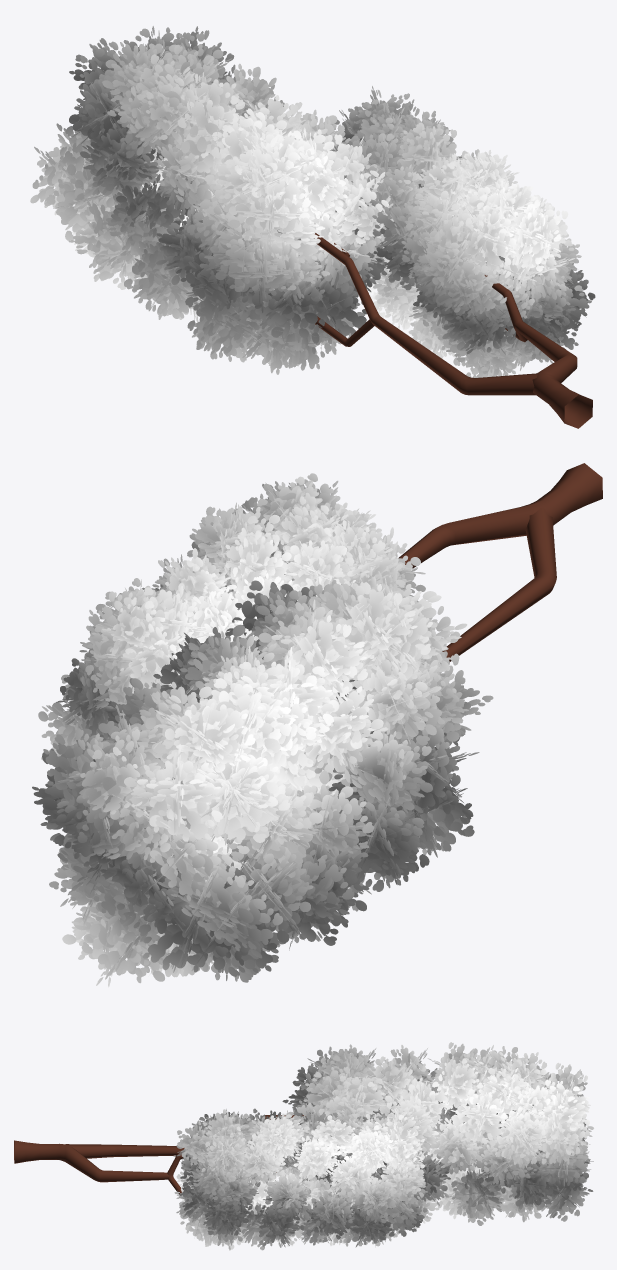
Rendered from StylisedTree4.fbx.
3 renders of one model, top to bottom at view 1: azimuth 30°, elevation 25°; view 2: azimuth 150°, elevation 25°; view 3: azimuth 270°, elevation 25°, orthographic. The views are drawn at different scales.
Visible parts, largest first — view 1: Leaf2Plane.002; view 2: Leaf2Plane.002; view 3: Leaf2Plane.002.
Part boxes in pixels (x1,y1,x2,y2): Leaf2Plane.002: [30, 26, 595, 428]; Leaf2Plane.002: [32, 463, 602, 987]; Leaf2Plane.002: [14, 1042, 593, 1250].
Size of the model in its own units: 578 by 435 by 1277.
